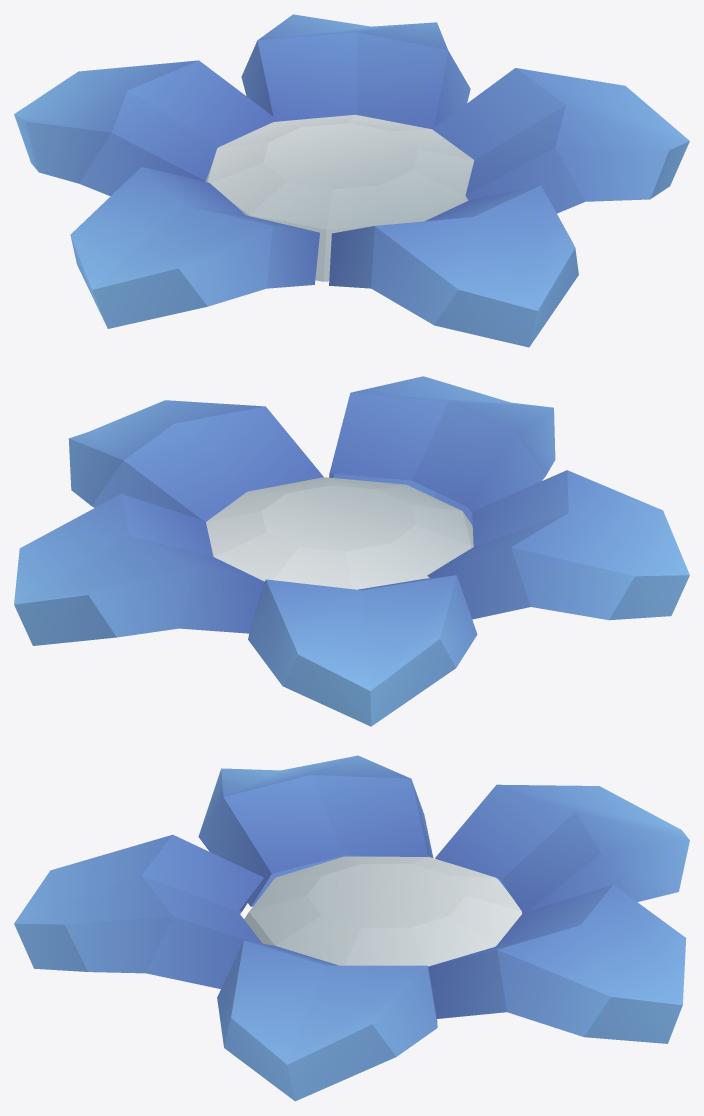
Rendered from Flower3.glb.
3 views of the same model, one above another, from view 1: azimuth 30°, elevation 25°; view 2: azimuth 150°, elevation 25°; view 3: azimuth 270°, elevation 25° (orthographic).
Parts seen in each view (by area): view 1: Flower3; view 2: Flower3; view 3: Flower3.
Part boxes in pixels (x1,y1,x2,y2): Flower3: (14, 14, 689, 347); Flower3: (14, 376, 689, 726); Flower3: (14, 755, 689, 1101).
Size of the model in its own units: 0.6751 by 0.0987 by 0.655.
Materials: 1 (1 with a texture image).
